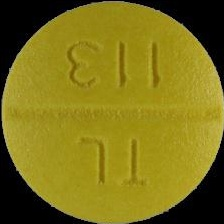21695-571: (0, 0, 224, 224)
